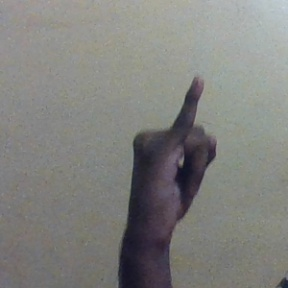I: (127, 74, 221, 225)
